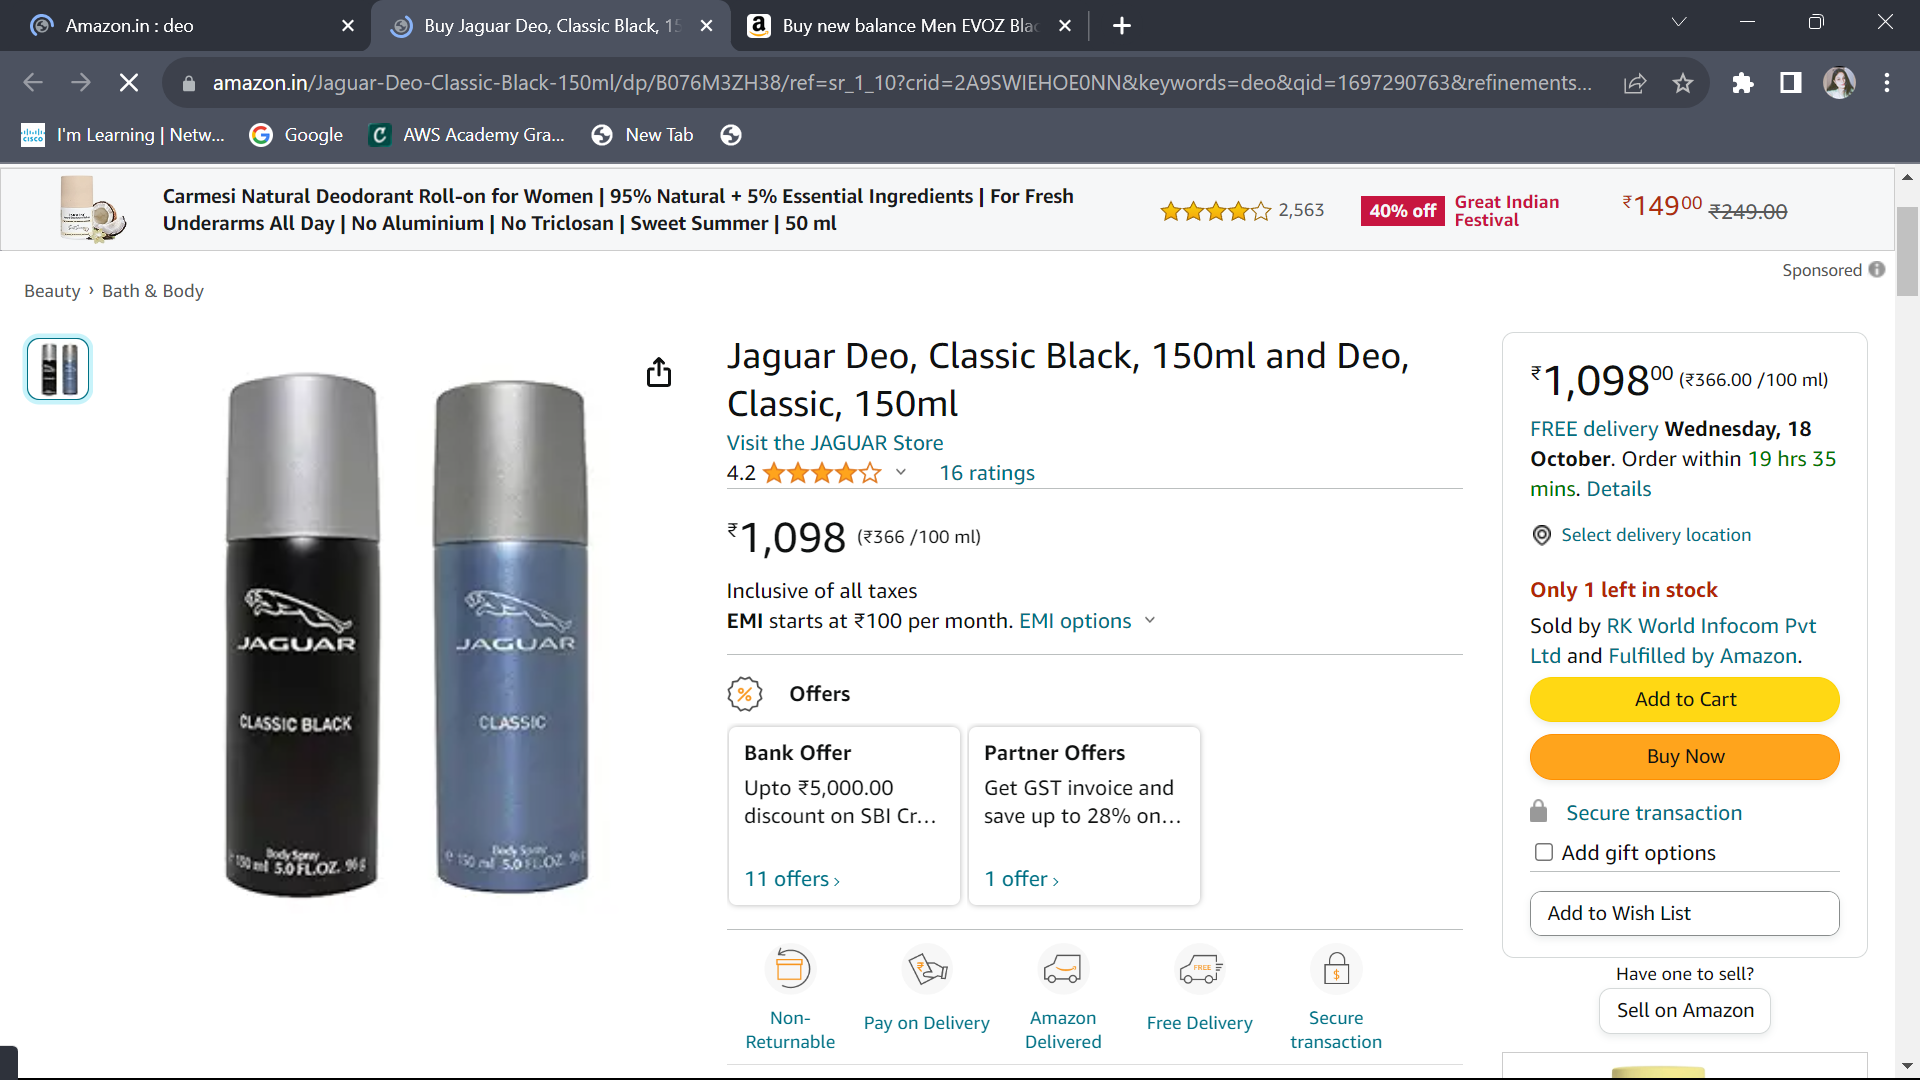Image: (210, 286, 609, 964)
Paragraph: (684, 657, 1228, 926), (704, 326, 1433, 436), (704, 564, 1143, 669), (1514, 411, 1828, 553), (1520, 680, 1851, 798), (1516, 574, 1840, 671), (1511, 800, 1851, 893), (696, 433, 1048, 510), (1509, 328, 1828, 411), (720, 520, 1036, 579), (1528, 893, 1797, 952), (1350, 574, 1466, 612)
